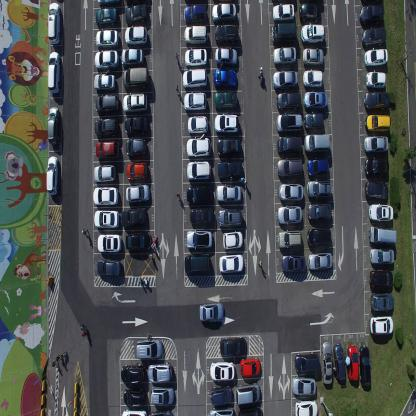car: (122, 66, 150, 91), (184, 251, 210, 276), (47, 0, 61, 46), (235, 381, 260, 406), (304, 132, 330, 156), (276, 156, 303, 179), (300, 22, 325, 46), (218, 252, 244, 275), (93, 48, 119, 71), (276, 112, 302, 135), (185, 228, 213, 249), (182, 67, 207, 90), (216, 182, 242, 204), (47, 50, 60, 94), (271, 22, 297, 44), (277, 228, 303, 250), (307, 250, 333, 272), (361, 26, 387, 48), (147, 361, 173, 383), (216, 158, 243, 179), (219, 336, 247, 356), (183, 90, 207, 113), (216, 136, 241, 158), (186, 158, 211, 180), (123, 92, 148, 114), (94, 116, 119, 138), (95, 92, 120, 114), (212, 67, 237, 89), (214, 22, 239, 44), (121, 206, 146, 228), (273, 70, 298, 92), (364, 179, 389, 201), (209, 360, 234, 382), (213, 112, 239, 133), (217, 208, 243, 229), (125, 230, 151, 251), (96, 233, 122, 254), (46, 154, 59, 196), (364, 113, 390, 134), (198, 301, 224, 322), (136, 338, 162, 359), (363, 91, 390, 111), (368, 225, 396, 244), (184, 2, 207, 25), (95, 6, 118, 29), (209, 383, 232, 406), (186, 134, 210, 156), (184, 24, 208, 46), (95, 27, 119, 49), (124, 4, 148, 26), (272, 45, 296, 67), (120, 362, 144, 384), (276, 91, 301, 112), (278, 182, 303, 203), (359, 3, 384, 24), (305, 178, 331, 198), (186, 184, 212, 204), (93, 186, 119, 206), (47, 105, 60, 145), (277, 135, 303, 155), (280, 254, 306, 274), (306, 228, 332, 248), (363, 48, 389, 68), (364, 135, 390, 155), (294, 352, 320, 372), (93, 209, 120, 228), (126, 159, 149, 181), (307, 201, 331, 222), (213, 90, 237, 111), (95, 138, 119, 159), (184, 47, 208, 68), (93, 163, 117, 184), (369, 268, 393, 289), (292, 375, 316, 396), (189, 206, 214, 226), (125, 183, 150, 203), (277, 204, 302, 224), (302, 90, 327, 110), (364, 157, 389, 177), (150, 385, 175, 405), (96, 258, 122, 277), (368, 203, 394, 222), (306, 156, 328, 178), (239, 356, 261, 378), (215, 46, 238, 67), (298, 0, 321, 21), (346, 343, 359, 380), (120, 46, 144, 66), (124, 26, 148, 46), (370, 292, 394, 312), (369, 314, 393, 334), (321, 340, 332, 383), (359, 344, 370, 387), (369, 247, 395, 265), (126, 136, 147, 158), (93, 72, 116, 92), (334, 342, 346, 380), (212, 2, 236, 21), (187, 113, 208, 134), (365, 70, 386, 91), (272, 2, 294, 22), (302, 47, 324, 67), (123, 386, 145, 406), (125, 116, 149, 134), (223, 230, 244, 250), (302, 68, 323, 88), (304, 112, 324, 130), (295, 400, 319, 415), (208, 406, 235, 416), (237, 407, 263, 415), (121, 407, 147, 415), (97, 0, 119, 7), (150, 409, 174, 415)
